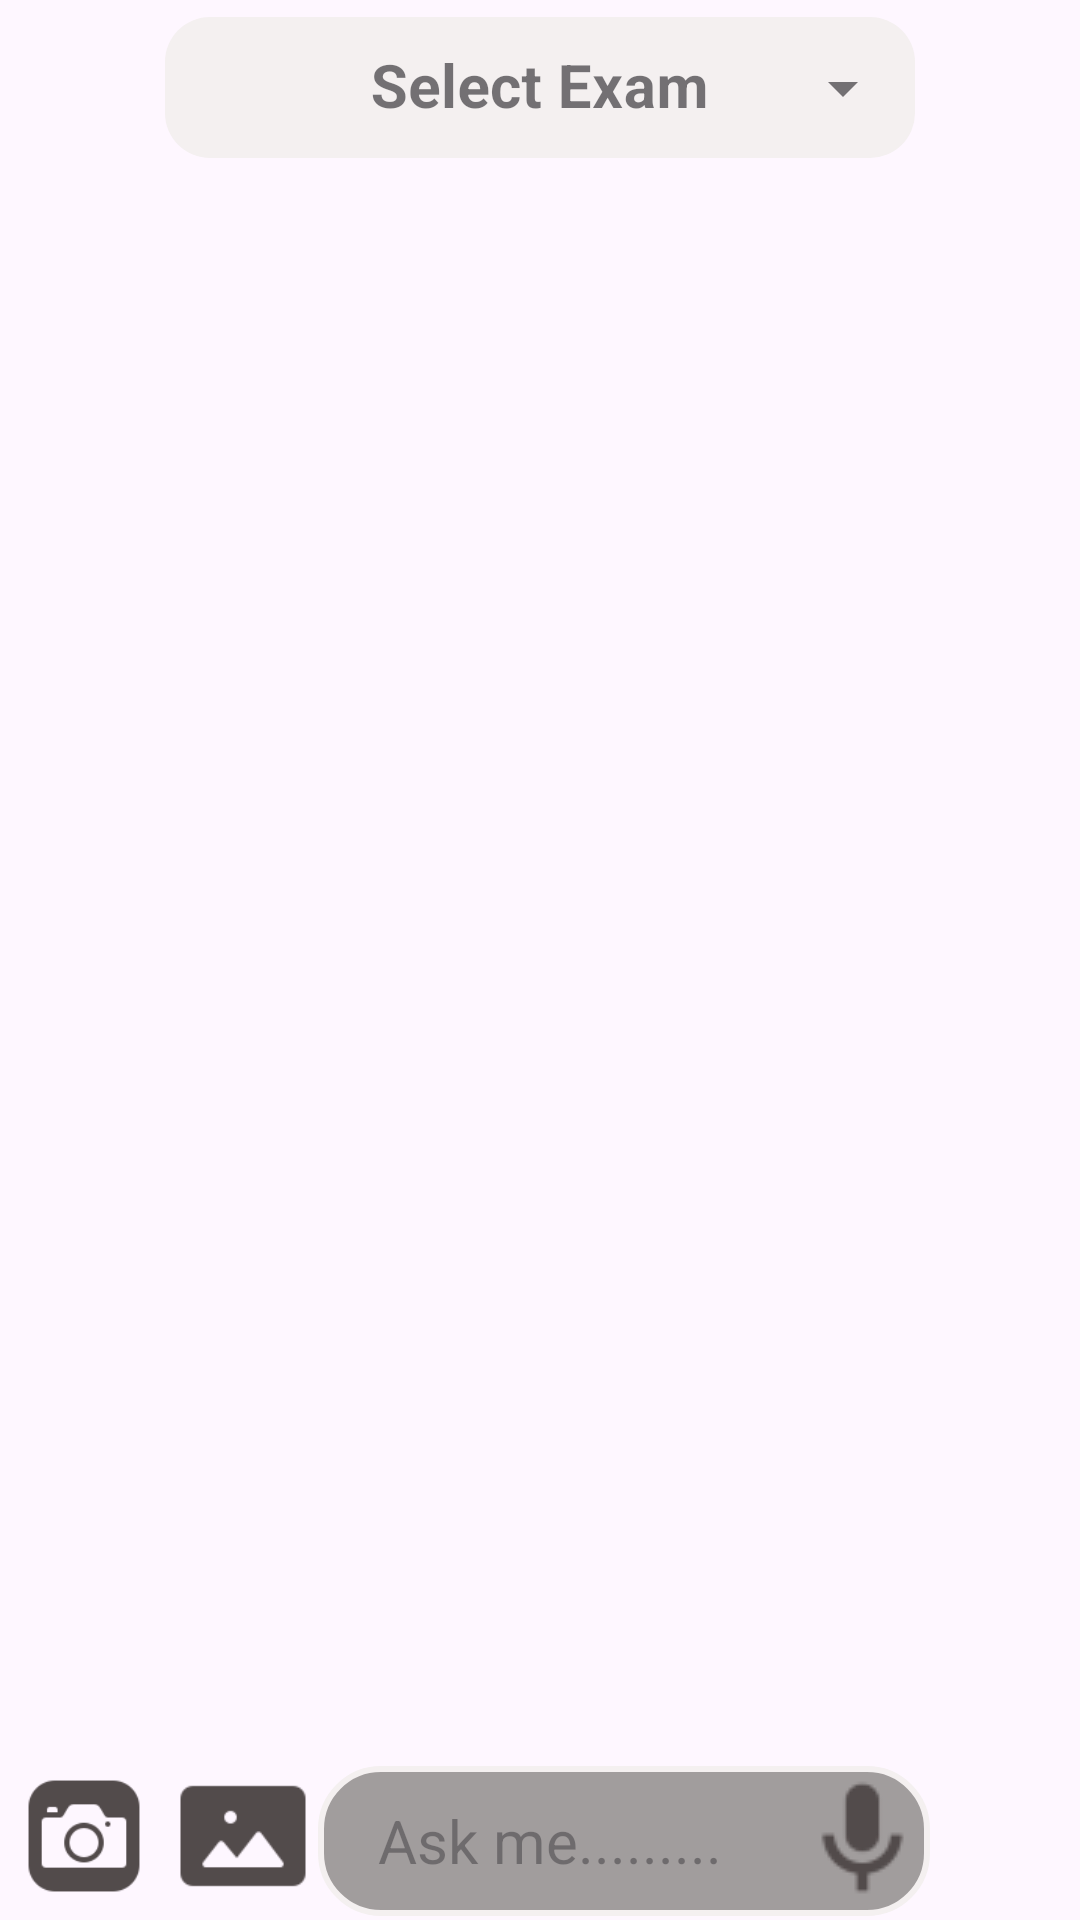

Where icons sit on this 1080w x 1920h app screen, as (x1, y1, x2, y2):
camera: (28, 1780, 140, 1892)
